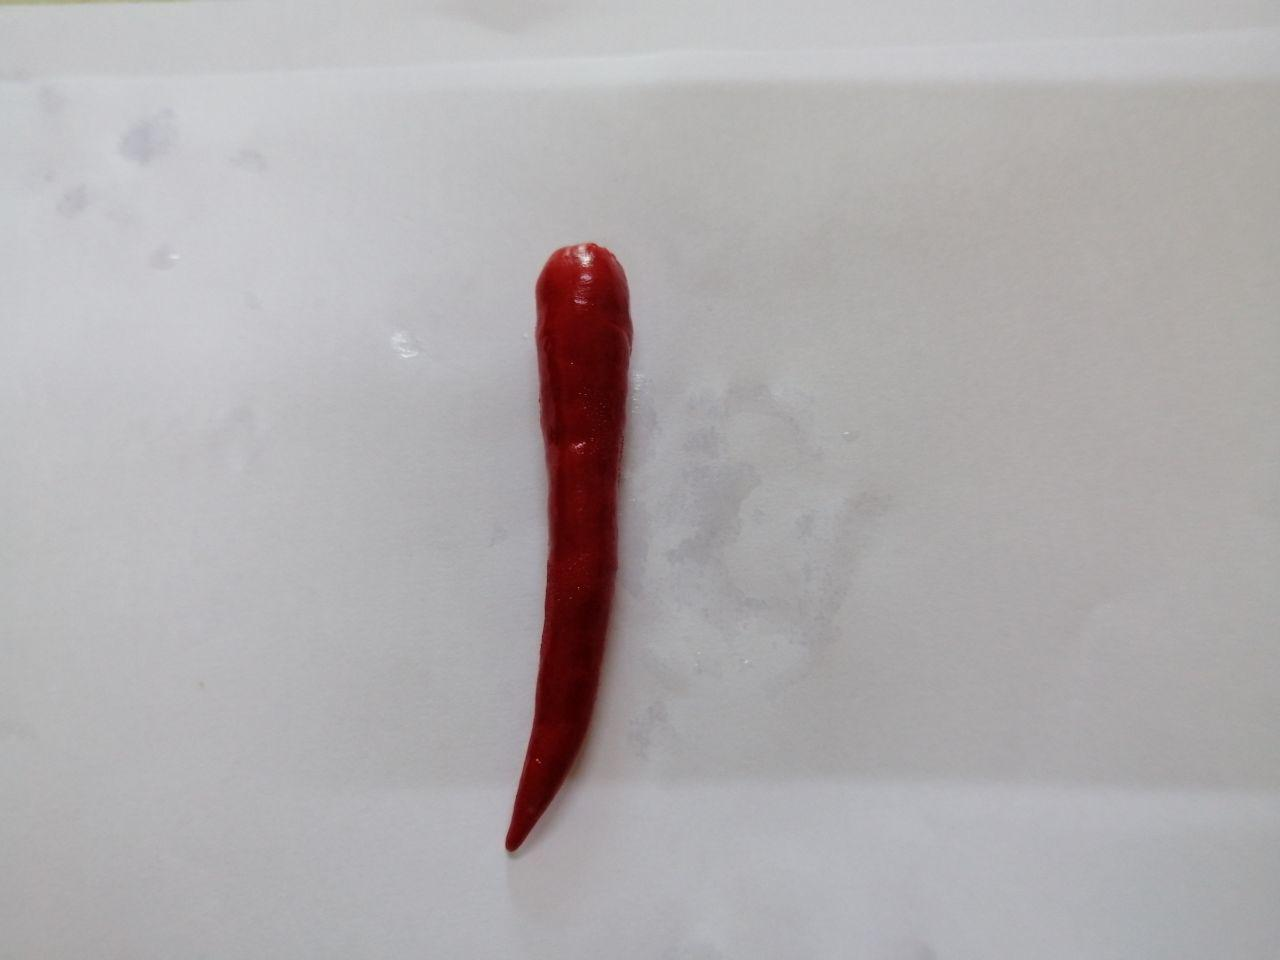lada merah: (472, 228, 691, 862)
